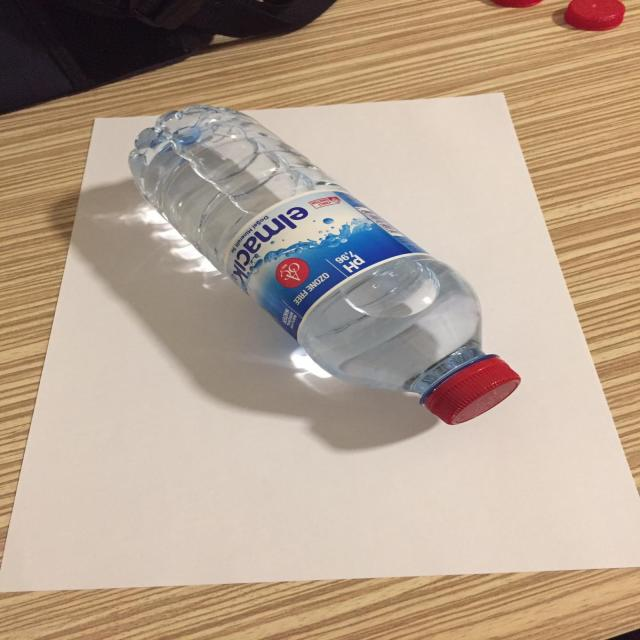anorganik: (126, 93, 525, 447)
